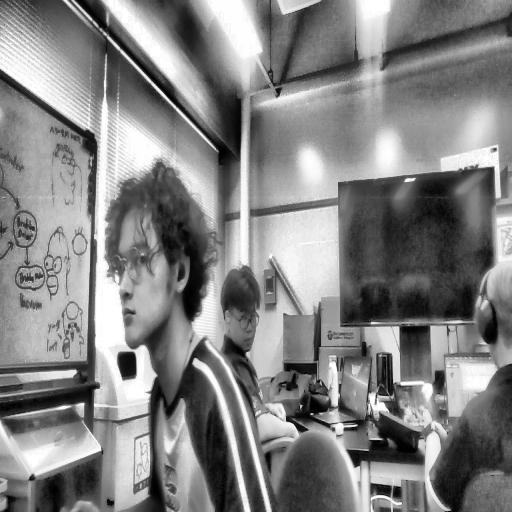Daifuku: (102, 165, 207, 352)
Not Daifuku: (218, 268, 264, 362), (477, 257, 512, 369)
